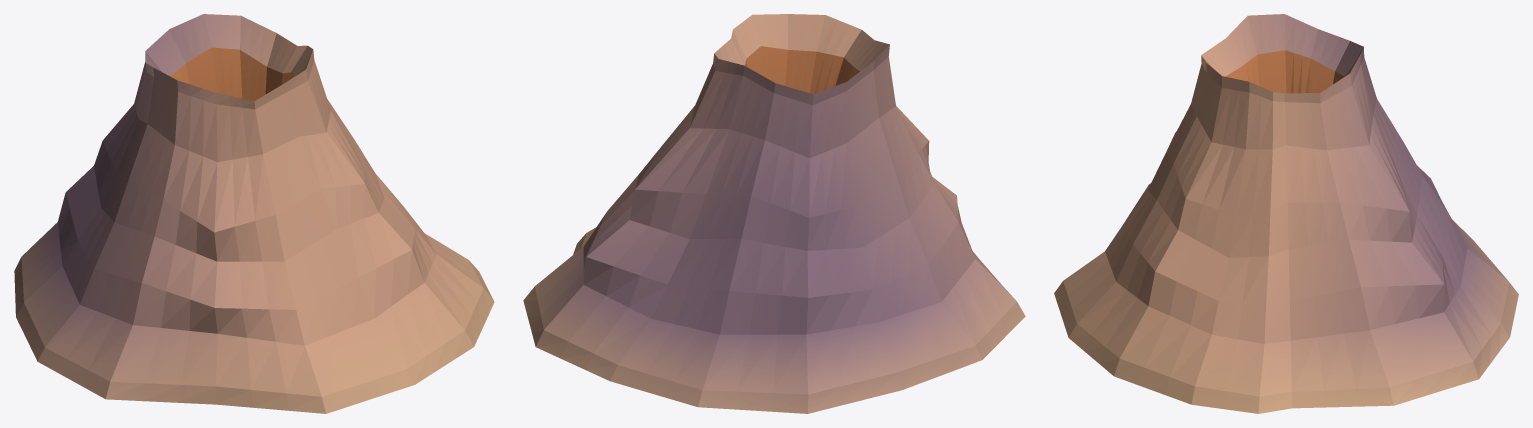
The model's file is Volcano_4.glb.
3 renders of one model, left to right at view 1: azimuth 30°, elevation 25°; view 2: azimuth 150°, elevation 25°; view 3: azimuth 270°, elevation 25°, orthographic. The views are drawn at different scales.
Visible parts, largest first — view 1: b612__Volcano_4; view 2: b612__Volcano_4; view 3: b612__Volcano_4.
Boxes of the visible parts, <box> form: b612__Volcano_4: <box>14,14,494,413</box>; b612__Volcano_4: <box>523,14,1025,413</box>; b612__Volcano_4: <box>1054,14,1518,413</box>.
Size of the model in its own units: 1.68 by 1.03 by 1.68.
